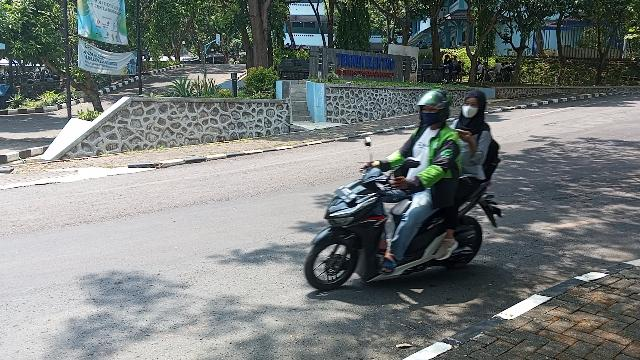helm: (417, 88, 454, 128)
motor: (304, 137, 505, 293)
non-helm: (461, 90, 488, 122)
